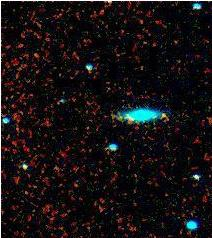star: (148, 98, 178, 128)
